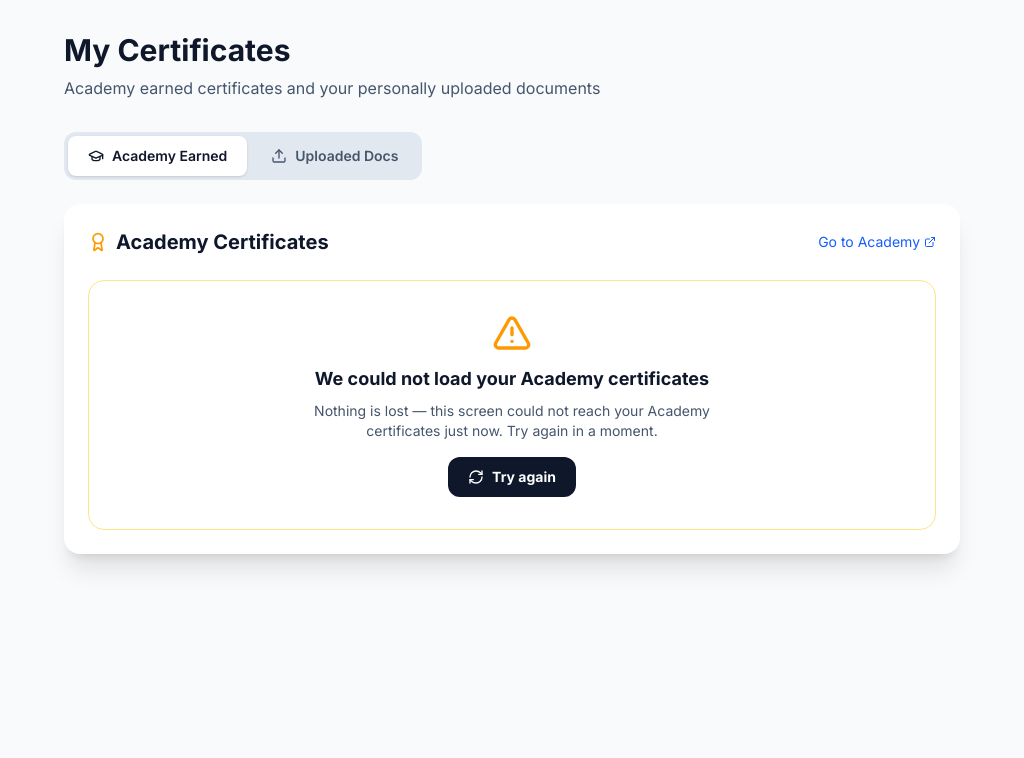
Test: #592 — the certificates screen, where the two lists fail apart › AND WHEN BOTH FAIL, BOTH SAY SO — AND NEITHER SHOWS A COUNT OF ZERO
This screenshot has width=1024, height=758.
Click the button "Uploaded Docs". click: (335, 156)
box: 251,136 -> 418,176
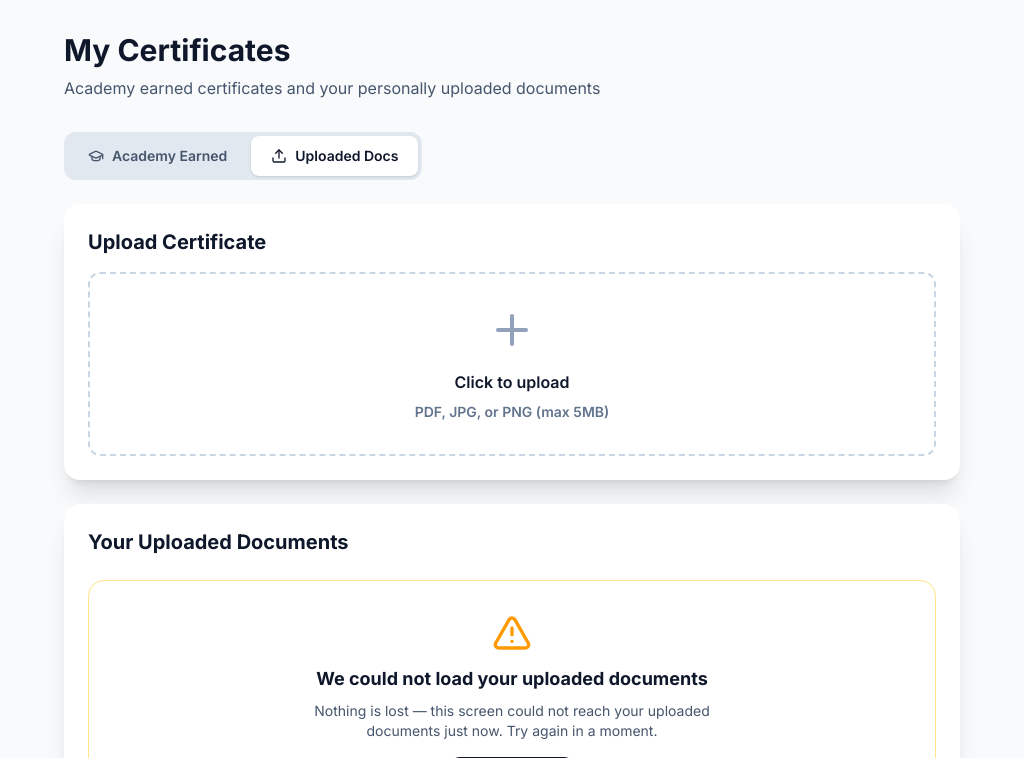
Expected: the text "We could not load" is shown, 316,668 -> 478,689
Now the text "Your Uploaded Documents" is shown, box 88,530 -> 349,554
